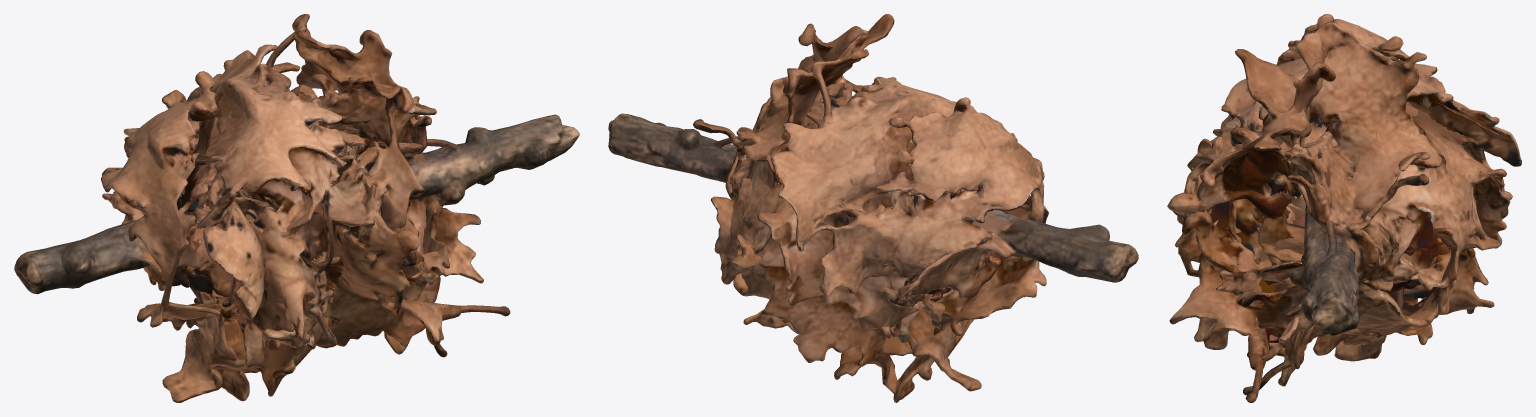
Rendered from stream-leaf-pack-v12.glb.
3 renders of one model, left to right at view 1: azimuth 30°, elevation 25°; view 2: azimuth 150°, elevation 25°; view 3: azimuth 270°, elevation 25°, orthographic. The views are drawn at different scales.
Parts seen in each view (by area): view 1: geometry_0; view 2: geometry_0; view 3: geometry_0.
Part boxes in pixels (x1,y1,x2,y2): geometry_0: (14, 14, 579, 402); geometry_0: (608, 14, 1138, 402); geometry_0: (1167, 14, 1521, 402).
Bounding box in the file's own units: 0.4498 × 0.2807 × 0.2469.
Materials: 1 (1 with a texture image).
